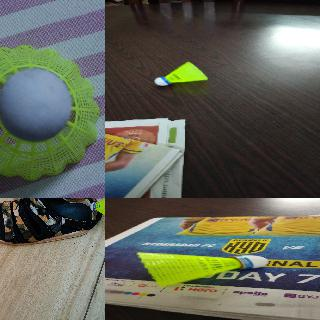shuttlecock: (0, 44, 99, 180), (137, 252, 269, 286), (154, 61, 208, 85), (90, 198, 104, 221)
